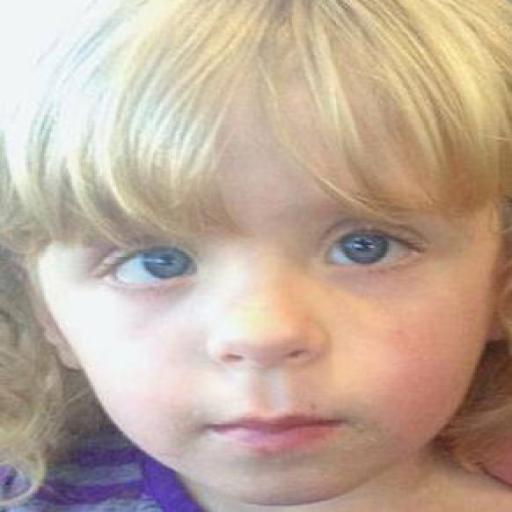Autism: (16, 13, 512, 498)
